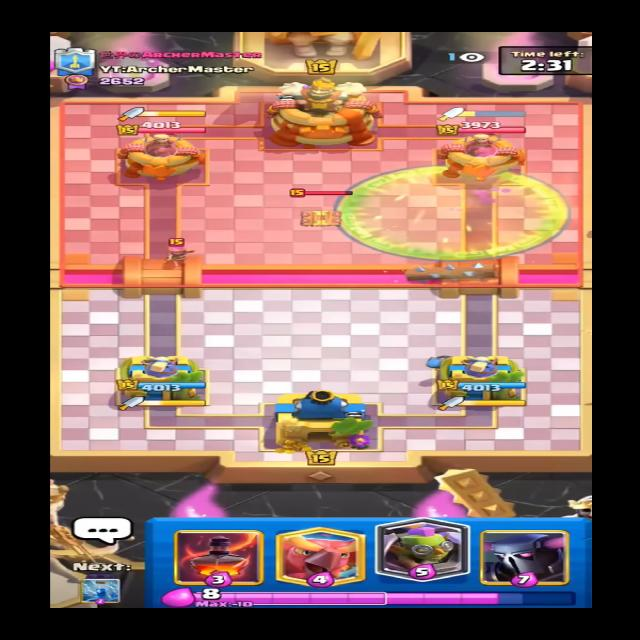archer: (163, 236, 207, 260)
tesla-closed: (281, 182, 362, 228)
